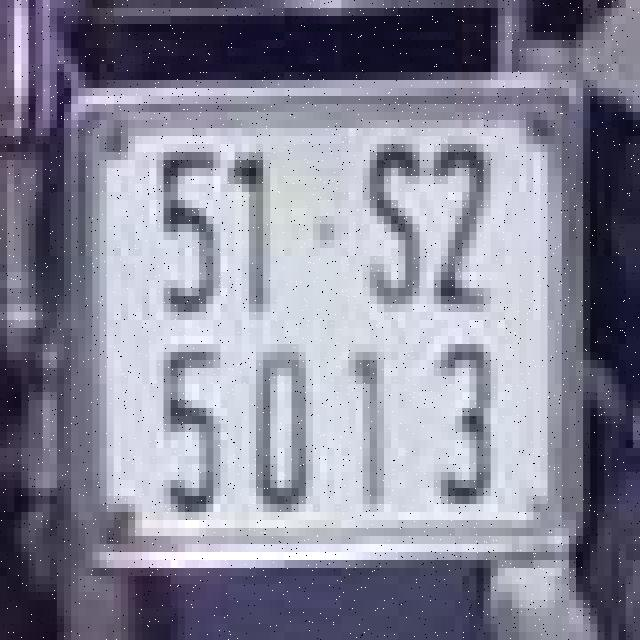0: (235, 340, 320, 516)
1: (334, 336, 398, 512), (228, 136, 284, 320)
2: (430, 116, 516, 316)
3: (431, 328, 508, 528)
5: (149, 340, 235, 524), (146, 136, 231, 320)
S: (352, 124, 430, 316)
